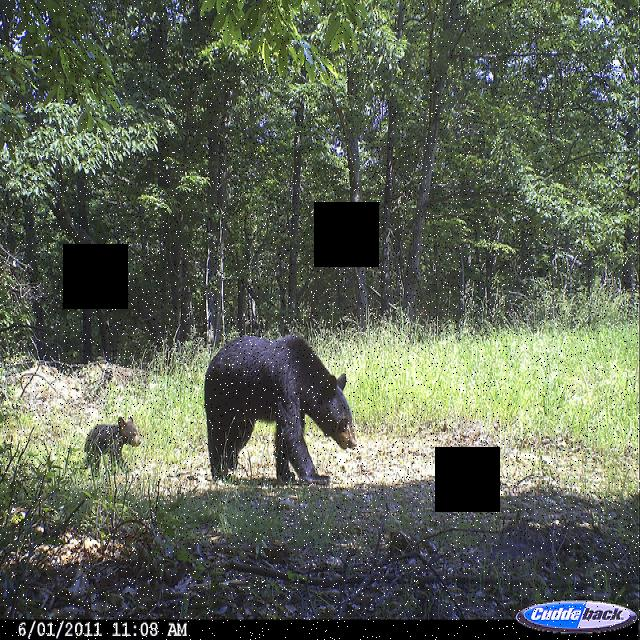Bear: (202, 330, 361, 480), (75, 413, 144, 464)
